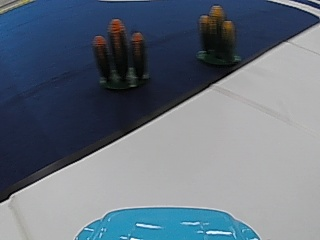corn: (93, 20, 149, 90), (196, 2, 239, 65)
